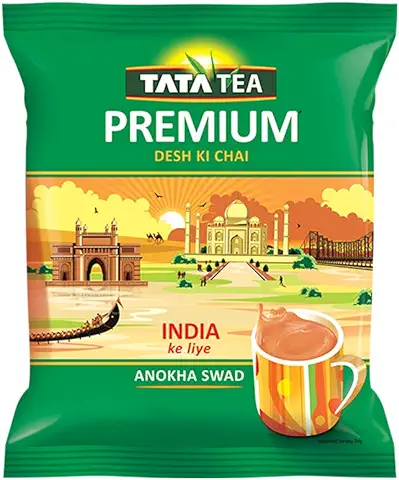Tea: (3, 2, 399, 480)
